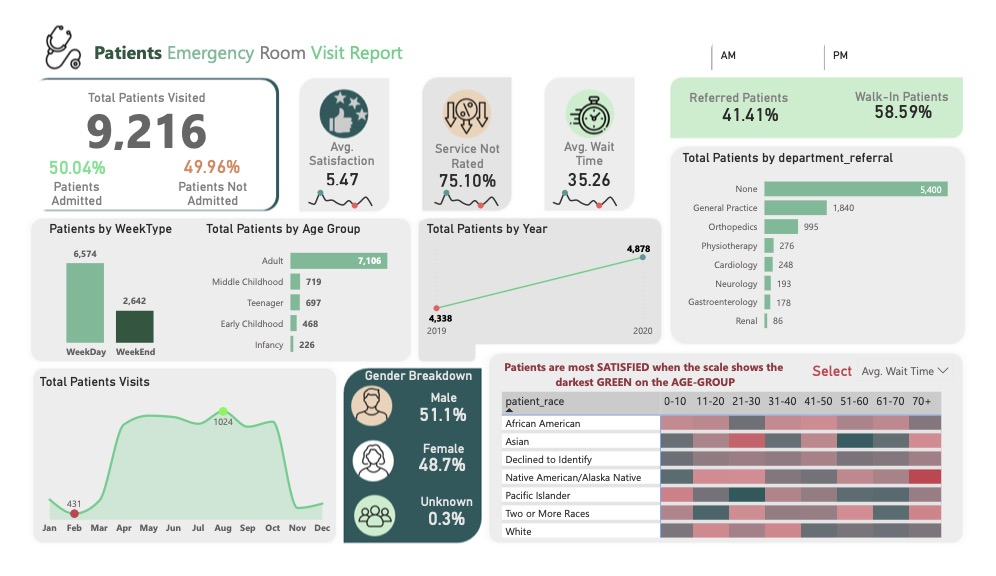

The page's visual inventory and layout, read from the dashboard file:
{"tool":"powerbi","page":{"name":"Hospital OPD Report","canvas":[1280,720],"ordinal":0},"visuals":[{"type":"card","fields":{"Values":["Measures Table.% Admitted Patients"]},"box":[33.8,181.2,90,35],"z":0},{"type":"card","fields":{"Values":["Measures Table.% Not Admitted Patients"]},"box":[213.8,177.5,90,38.8],"z":1000},{"type":"card","fields":{"Values":["Measures Table.Total Patients"]},"box":[85,110,175,71.2],"z":2000},{"type":"card","title":"Avg. Wait Time","fields":{"Values":["Measures Table.Average Wait Time"]},"box":[706.2,161.2,111.2,68.8],"z":3000},{"type":"card","title":"Avg. Satisfaction","fields":{"Values":["Measures Table.Average Satisfaction Score"]},"box":[370,161.2,123.8,66.2],"z":4000},{"type":"card","fields":{"Values":["Measures Table.% Referred Patients"]},"box":[918.8,107.5,116.2,38.8],"z":5000},{"type":"card","fields":{"Values":["Measures Table.% Not Referred Patients"]},"box":[1124.4,104.6,112.5,38.8],"z":6000},{"type":"card","title":"Service Not Rated","fields":{"Values":["Measures Table.% No Ratings"]},"box":[531.2,163.8,136.2,66.2],"z":7000},{"type":"pivotTable","fields":{"Values":["Measures Table.Average Wait Time"],"Rows":["Hospital Dataset.patient_race"],"Columns":["Hospital Dataset.Age Buckets"]},"box":[640,492.9,617.1,215.7],"z":8000},{"type":"slicer","fields":{"Values":["Parameters.Parameters"]},"box":[1108.6,444.3,148.6,47.1],"z":9000},{"type":"clusteredBarChart","fields":{"Category":["Hospital Dataset.Age Group"],"Y":["Measures Table.Total Patients"]},"box":[246,270,286,192],"z":10000},{"type":"areaChart","title":"Total Patients Visits","fields":{"Category":["Date.Month"],"Y":["Measures Table.Total Patients","Measures Table.Values Pt. (Month)"]},"box":[24,474,400,224],"z":11000},{"type":"advancedSlicerVisual","fields":{"Values":["Hospital Dataset.Moment"]},"box":[918.8,22.5,305,52.5],"z":12000},{"type":"lineChart","fields":{"Category":["Date.Year"],"Y":["Measures Table.Total Patients"]},"box":[540,270,311,165],"z":13000},{"type":"clusteredBarChart","fields":{"Y":["Measures Table.Total Patients"],"Category":["Hospital Dataset.department_referral"]},"box":[881.2,176.2,398.8,252.5],"z":14000},{"type":"card","fields":{"Values":["Measures Table.HeatMap Caption"]},"box":[625.7,444.3,421.4,60],"z":15000},{"type":"textbox","box":[32.5,208.8,91.2,48.8],"z":16000},{"type":"textbox","box":[205,208.8,110,48.8],"z":17000},{"type":"textbox","box":[1100.9,88.5,155.1,29.6],"z":18000},{"type":"textbox","box":[887.3,91.5,152.2,29.6],"z":19000},{"type":"clusteredColumnChart","title":"Patients by WeekType","fields":{"Y":["Measures Table.Total Patients"],"Category":["Date.WeekType"]},"box":[0,270,247.5,192.5],"z":20000},{"type":"card","title":"Service Not Rated","fields":{"Values":["Measures Table.% Male Visit"]},"box":[527.5,511.2,77.5,31.2],"z":21000},{"type":"card","title":"Service Not Rated","fields":{"Values":["Measures Table.% Female Visit"]},"box":[529.4,575.8,73.8,35.7],"z":22000},{"type":"card","title":"Service Not Rated","fields":{"Values":["Measures Table.% Unknown Visit"]},"box":[541.3,645.9,61.9,40.4],"z":23000},{"type":"textbox","box":[62.5,90,218.8,28.8],"z":24000},{"type":"PBI_CV_25997FEB_F466_44FA_B562_AC4063283C4C","fields":{"measure":["Measures Table.Average Satisfaction Score"],"axis":["Date.Month"]},"box":[370,216.2,123.8,45],"z":25000},{"type":"PBI_CV_25997FEB_F466_44FA_B562_AC4063283C4C","fields":{"measure":["Measures Table.Average Satisfaction Score"],"axis":["Date.Month"]},"box":[696.2,216.2,123.8,45],"z":26000},{"type":"PBI_CV_25997FEB_F466_44FA_B562_AC4063283C4C","fields":{"measure":["Measures Table.Average Satisfaction Score"],"axis":["Date.Month"]},"box":[537.5,216.2,123.8,45],"z":27000},{"type":"textbox","box":[442.9,461.4,182.9,32.9],"z":28000},{"type":"textbox","box":[527.1,628.6,90,32.9],"z":29000},{"type":"textbox","box":[522.9,558.6,90,32.9],"z":30000},{"type":"textbox","box":[522.9,491.4,90,32.9],"z":31000},{"type":"textbox","box":[1041.4,454.3,90,32.9],"z":32000},{"type":"textbox","box":[34.3,22.9,547.1,48.6],"z":33000},{"type":"PBI_CV_25997FEB_F466_44FA_B562_AC4063283C4C","fields":{"measure":["Measures Table.Total Patients"],"axis":["Date.Year"]},"box":[540,302,315,96],"z":34000}]}

Visuals, with their boxes in screenshot pixels (x1, y1, x2, y2), scaled from the page's 1280x720 canvas onto the 996x576 screenshot:
card - Measures Table.% Admitted Patients: pyautogui.locateOnScreen(26, 145, 96, 173)
card - Measures Table.% Not Admitted Patients: pyautogui.locateOnScreen(166, 142, 236, 173)
card - Measures Table.Total Patients: pyautogui.locateOnScreen(66, 88, 202, 145)
"Avg. Wait Time" card: pyautogui.locateOnScreen(550, 129, 636, 184)
"Avg. Satisfaction" card: pyautogui.locateOnScreen(288, 129, 384, 182)
card - Measures Table.% Referred Patients: pyautogui.locateOnScreen(715, 86, 805, 117)
card - Measures Table.% Not Referred Patients: pyautogui.locateOnScreen(875, 84, 962, 115)
"Service Not Rated" card: pyautogui.locateOnScreen(413, 131, 519, 184)
pivotTable - Measures Table.Average Wait Time x Hospital Dataset.patient_race: pyautogui.locateOnScreen(498, 394, 978, 567)
slicer - Parameters.Parameters: pyautogui.locateOnScreen(863, 355, 978, 393)
clusteredBarChart - Hospital Dataset.Age Group x Measures Table.Total Patients: pyautogui.locateOnScreen(191, 216, 414, 370)
"Total Patients Visits" areaChart: pyautogui.locateOnScreen(19, 379, 330, 558)
advancedSlicerVisual - Hospital Dataset.Moment: pyautogui.locateOnScreen(715, 18, 952, 60)
lineChart - Date.Year x Measures Table.Total Patients: pyautogui.locateOnScreen(420, 216, 662, 348)
clusteredBarChart - Measures Table.Total Patients x Hospital Dataset.department_referral: pyautogui.locateOnScreen(686, 141, 995, 343)
card - Measures Table.HeatMap Caption: pyautogui.locateOnScreen(487, 355, 815, 403)
textbox: pyautogui.locateOnScreen(25, 167, 96, 206)
textbox: pyautogui.locateOnScreen(160, 167, 245, 206)
textbox: pyautogui.locateOnScreen(857, 71, 977, 94)
textbox: pyautogui.locateOnScreen(690, 73, 809, 97)
"Patients by WeekType" clusteredColumnChart: pyautogui.locateOnScreen(0, 216, 193, 370)
"Service Not Rated" card: pyautogui.locateOnScreen(410, 409, 471, 434)
"Service Not Rated" card: pyautogui.locateOnScreen(412, 461, 469, 489)
"Service Not Rated" card: pyautogui.locateOnScreen(421, 517, 469, 549)
textbox: pyautogui.locateOnScreen(49, 72, 219, 95)
PBI_CV_25997FEB_F466_44FA_B562_AC4063283C4C - Measures Table.Average Satisfaction Score x Date.Month: pyautogui.locateOnScreen(288, 173, 384, 209)
PBI_CV_25997FEB_F466_44FA_B562_AC4063283C4C - Measures Table.Average Satisfaction Score x Date.Month: pyautogui.locateOnScreen(542, 173, 638, 209)
PBI_CV_25997FEB_F466_44FA_B562_AC4063283C4C - Measures Table.Average Satisfaction Score x Date.Month: pyautogui.locateOnScreen(418, 173, 515, 209)
textbox: pyautogui.locateOnScreen(345, 369, 487, 395)
textbox: pyautogui.locateOnScreen(410, 503, 480, 529)
textbox: pyautogui.locateOnScreen(407, 447, 477, 473)
textbox: pyautogui.locateOnScreen(407, 393, 477, 419)
textbox: pyautogui.locateOnScreen(810, 363, 880, 390)
textbox: pyautogui.locateOnScreen(27, 18, 452, 57)
PBI_CV_25997FEB_F466_44FA_B562_AC4063283C4C - Measures Table.Total Patients x Date.Year: pyautogui.locateOnScreen(420, 242, 665, 318)
